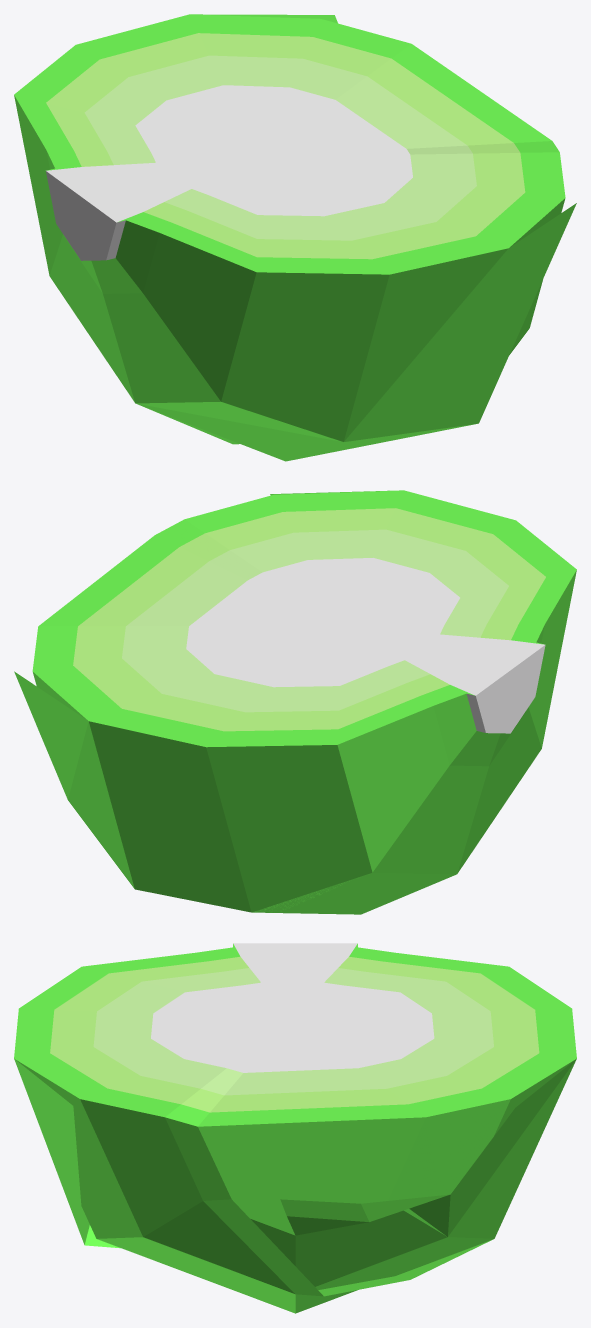
Rendered from cabbage02.obj.
3 views of the same model, one above another, from view 1: azimuth 30°, elevation 25°; view 2: azimuth 150°, elevation 25°; view 3: azimuth 270°, elevation 25° (orthographic). The views are drawn at different scales.
Visible parts, largest first — view 1: Cylinder_Cylinder.002; view 2: Cylinder_Cylinder.002; view 3: Cylinder_Cylinder.002.
Part boxes in pixels (left/top/right/bottom): Cylinder_Cylinder.002: left=14, top=14, right=576, bottom=461; Cylinder_Cylinder.002: left=14, top=490, right=576, bottom=914; Cylinder_Cylinder.002: left=14, top=943, right=576, bottom=1313.
Bounding box in the file's own units: 0.1439 × 0.0929 × 0.1858.
Materials: 1 (1 with a texture image).
